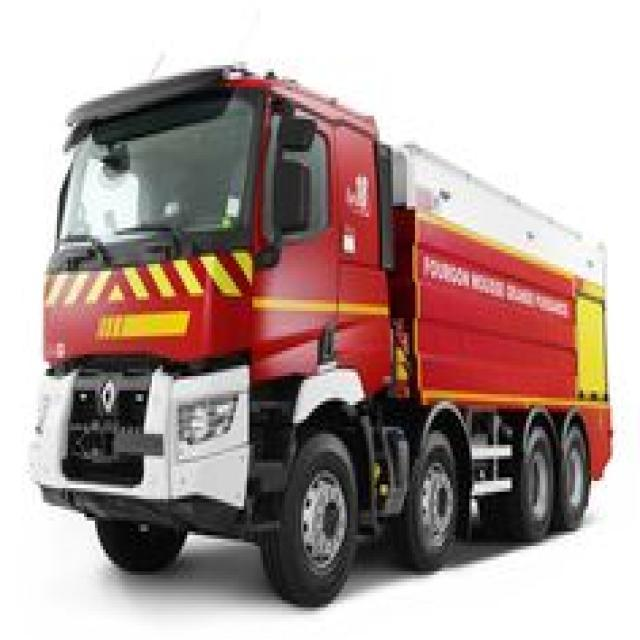emergency: (43, 58, 604, 594)
